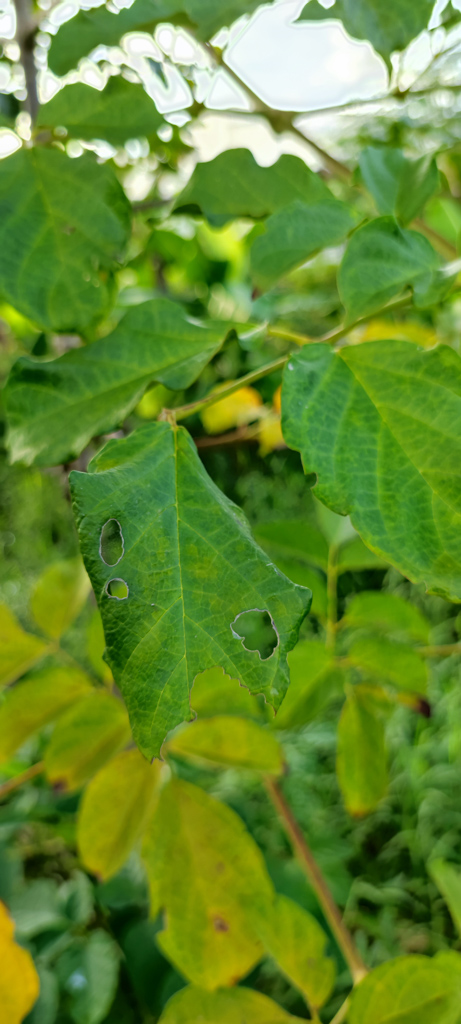Pepper yellow leaf: (9, 629, 292, 985), (200, 368, 290, 453)
